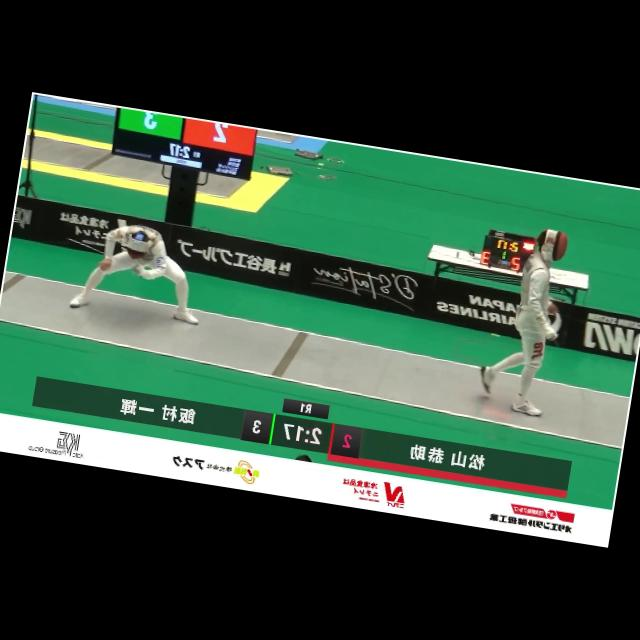blade: (58, 237, 144, 280)
